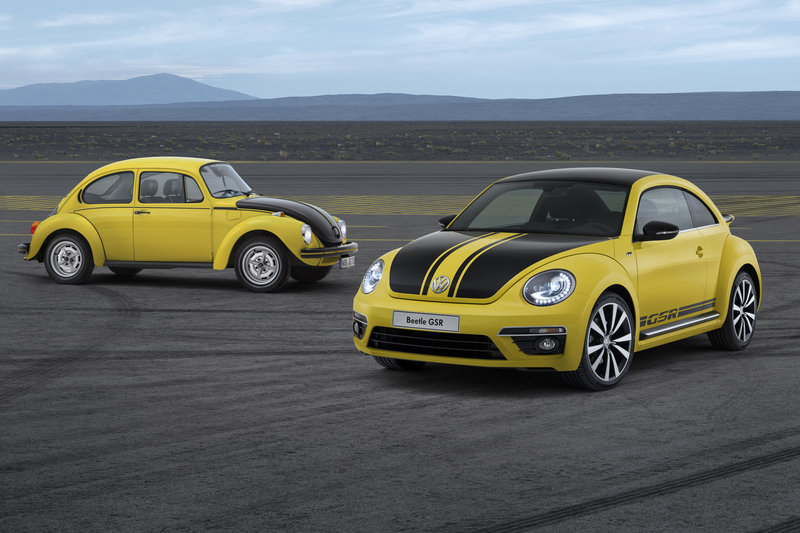car: (353, 167, 764, 388), (18, 155, 356, 287)
